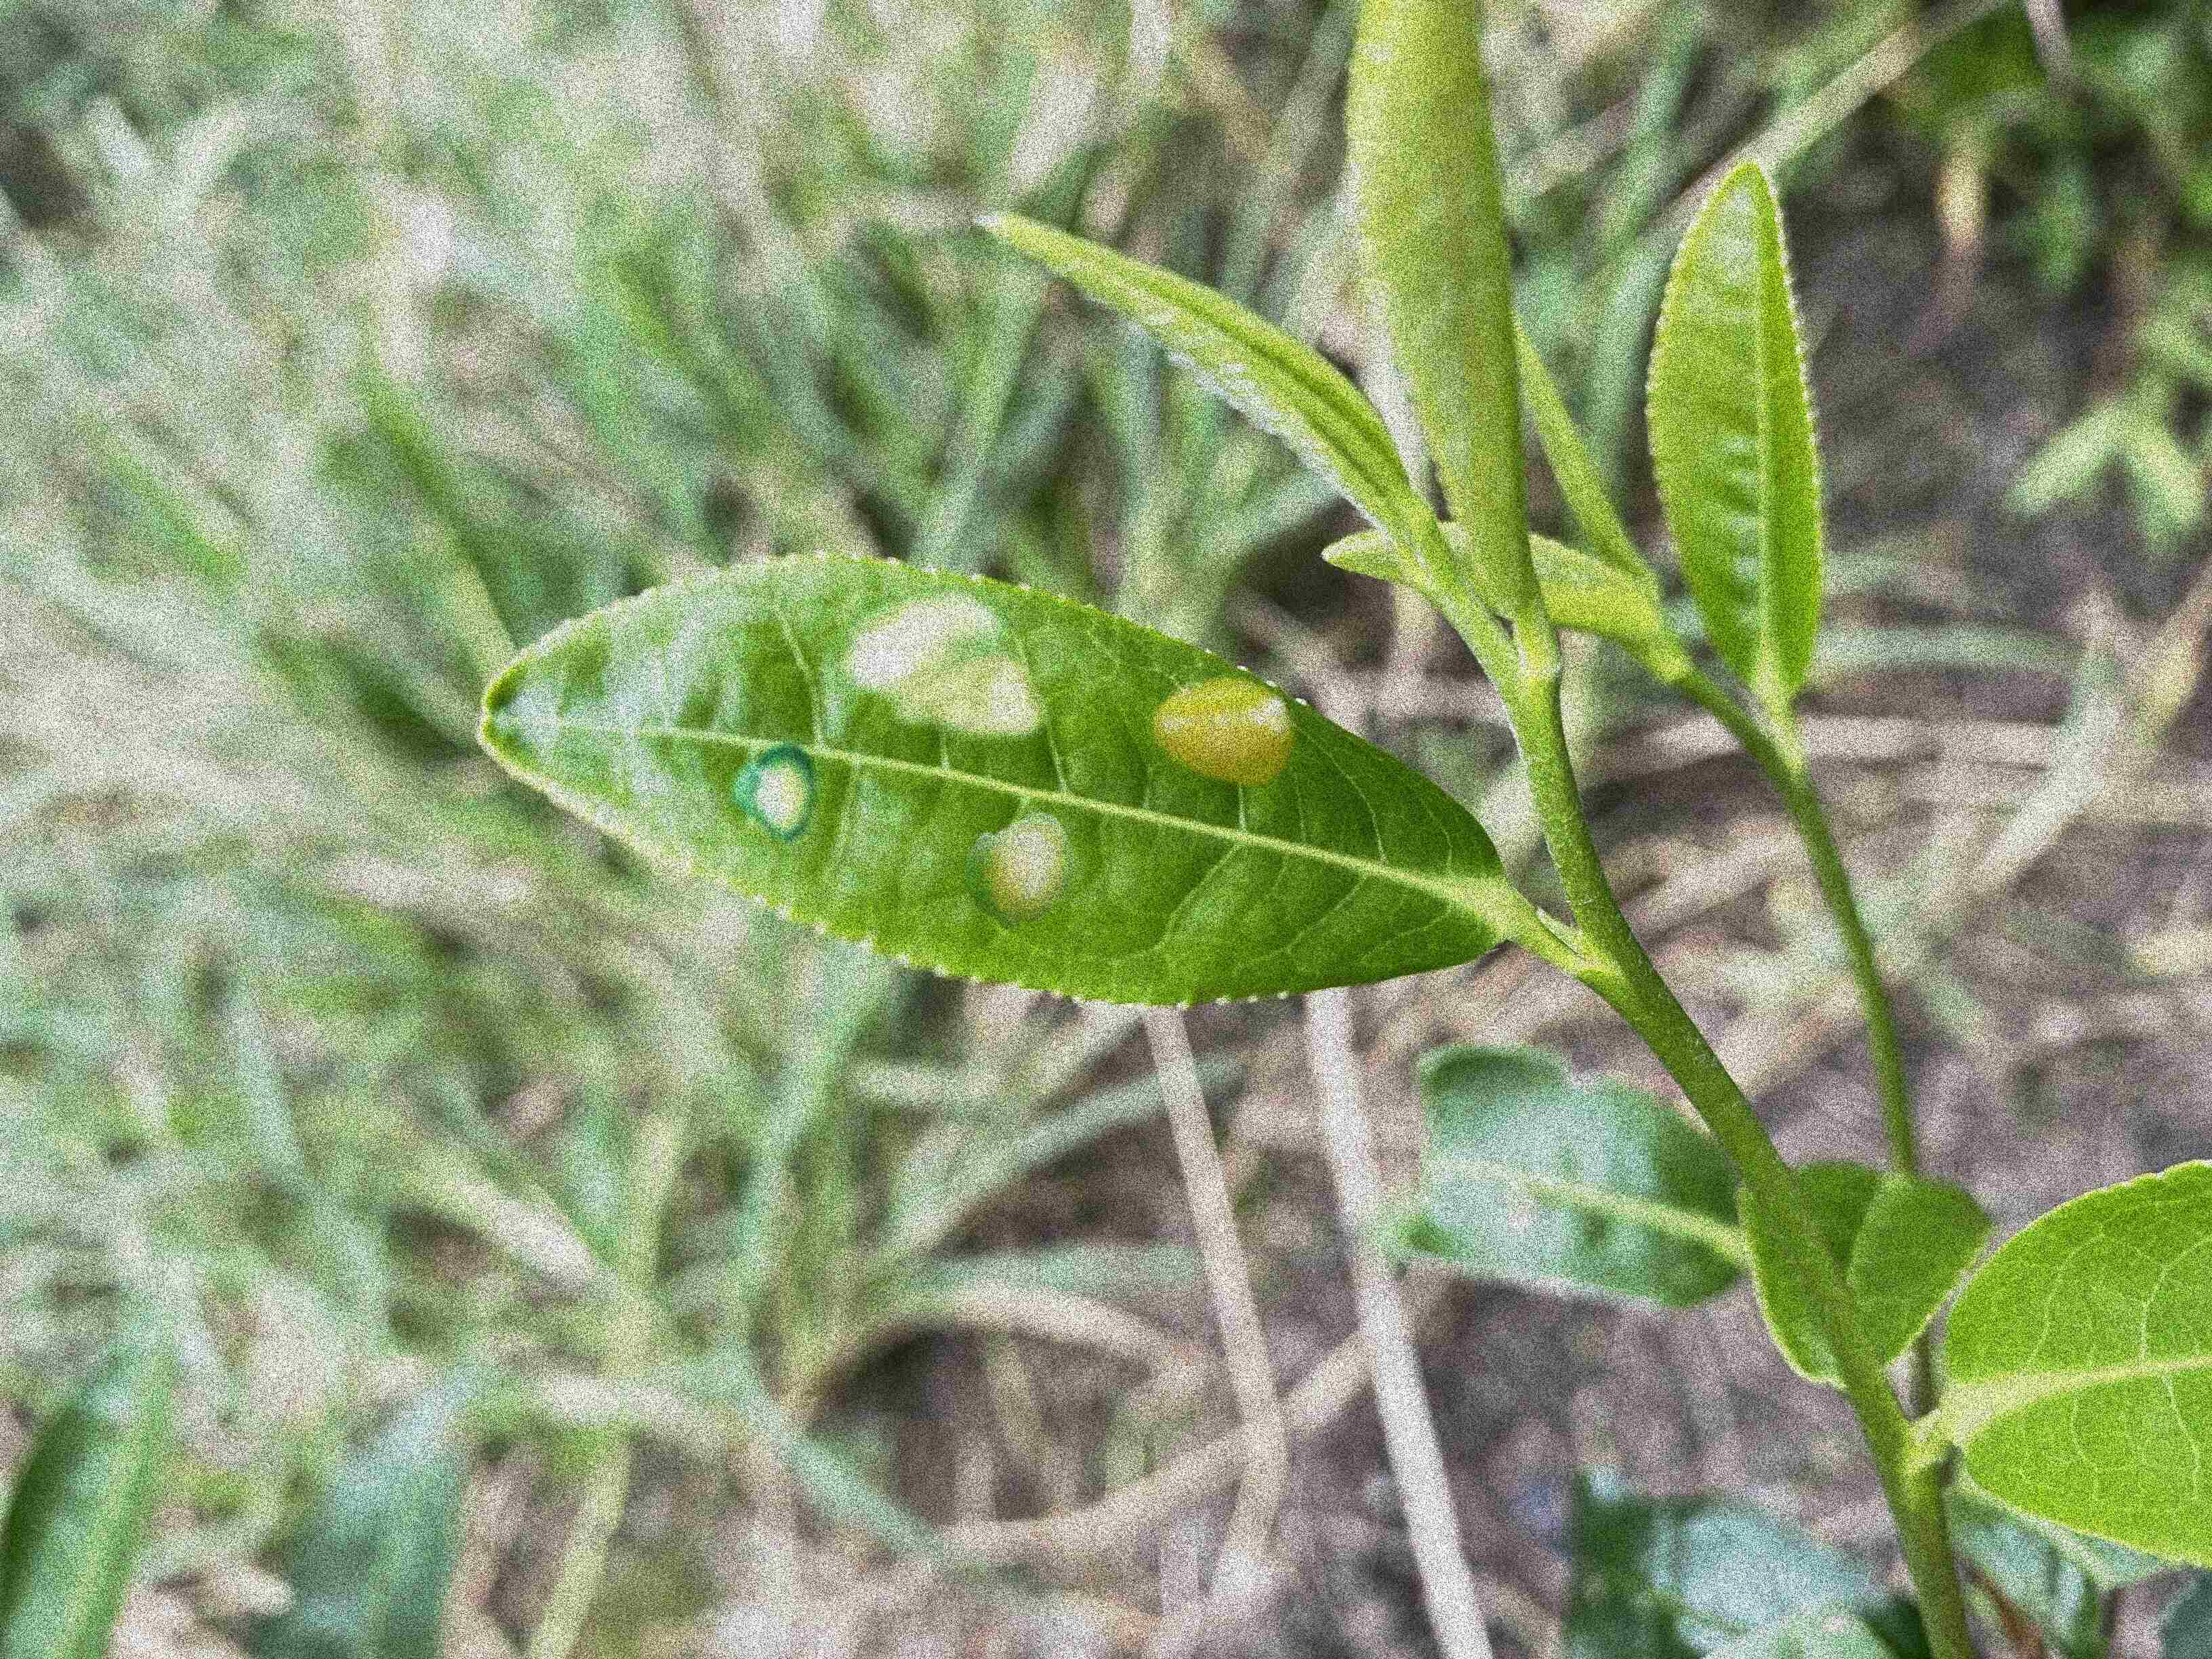chabing_high: (474, 549, 1512, 1011)
healthy: (1646, 164, 1824, 704)
